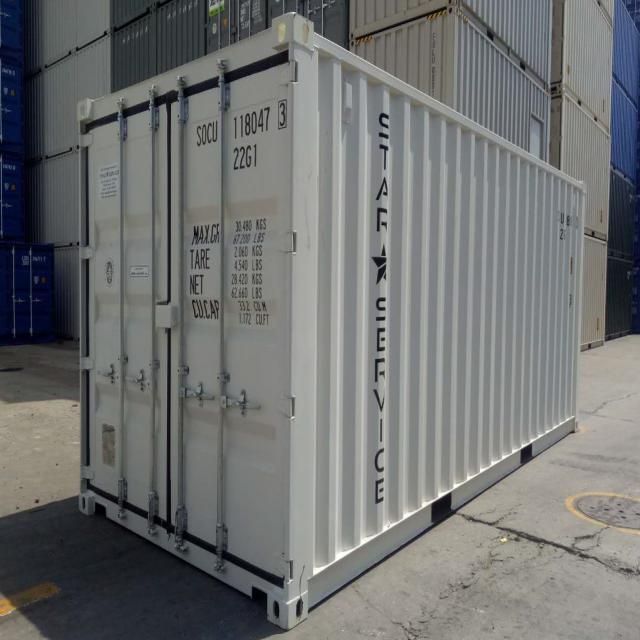ISO: (232, 144, 262, 170)
container_number: (195, 106, 289, 142)
